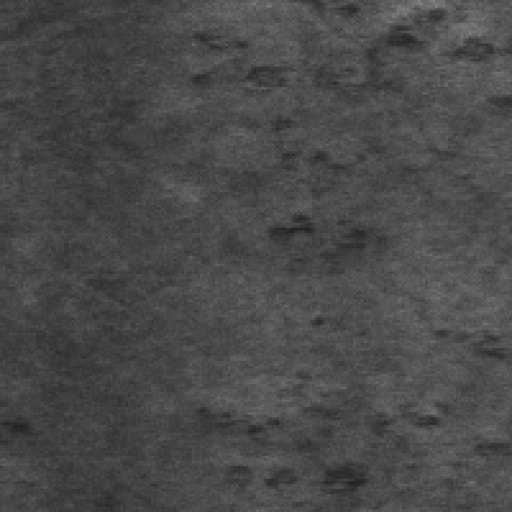rolled_in_scale: (172, 319, 507, 510), (173, 2, 505, 140), (255, 146, 397, 278)
